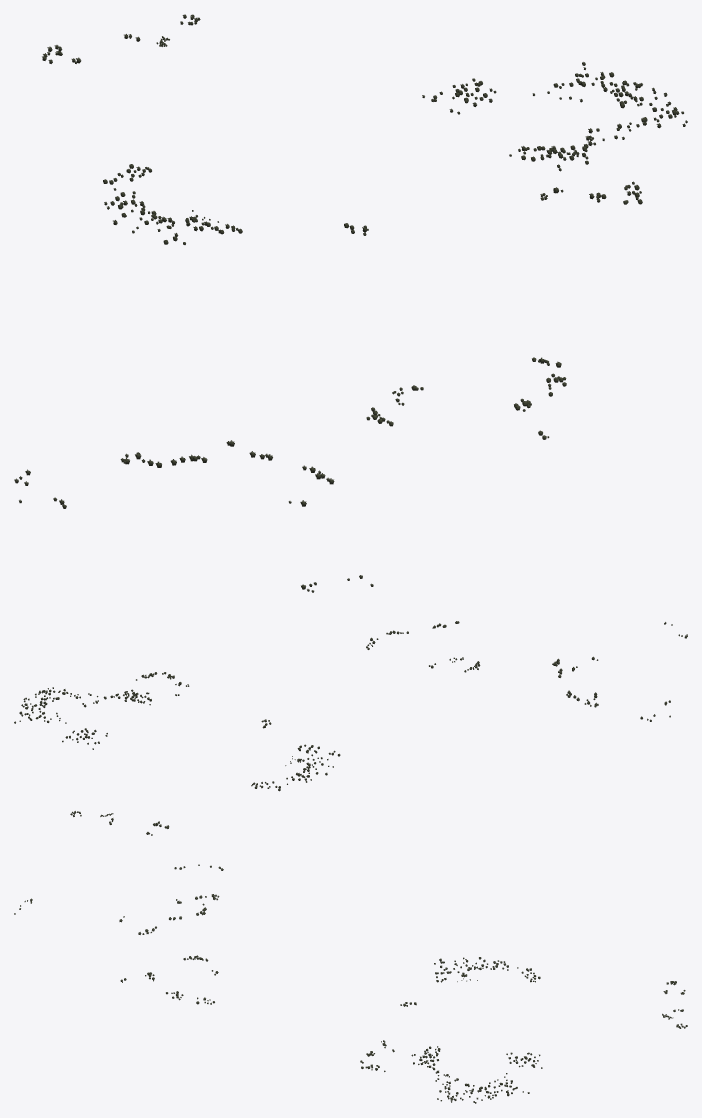
File: Bush.fbx
The picture shows the model from 3 angles, top to bottom: view 1: azimuth 30°, elevation 25°; view 2: azimuth 150°, elevation 25°; view 3: azimuth 270°, elevation 25°; orthographic projection. The views are drawn at different scales.
Visible parts, largest first — view 1: Combined_Bush; view 2: Combined_Bush; view 3: Combined_Bush.
Boxes of the visible parts, <box> form: Combined_Bush: <box>14,14,687,592</box>; Combined_Bush: <box>14,621,687,835</box>; Combined_Bush: <box>14,864,687,1103</box>.
Size of the model in its own units: 35564 by 1350 by 42602.
Materials: 1 (1 with a texture image).
